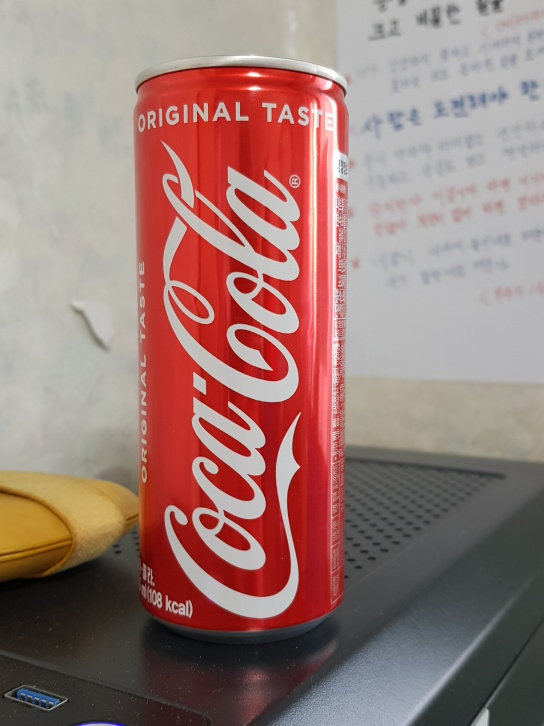Can: (132, 52, 353, 643)
